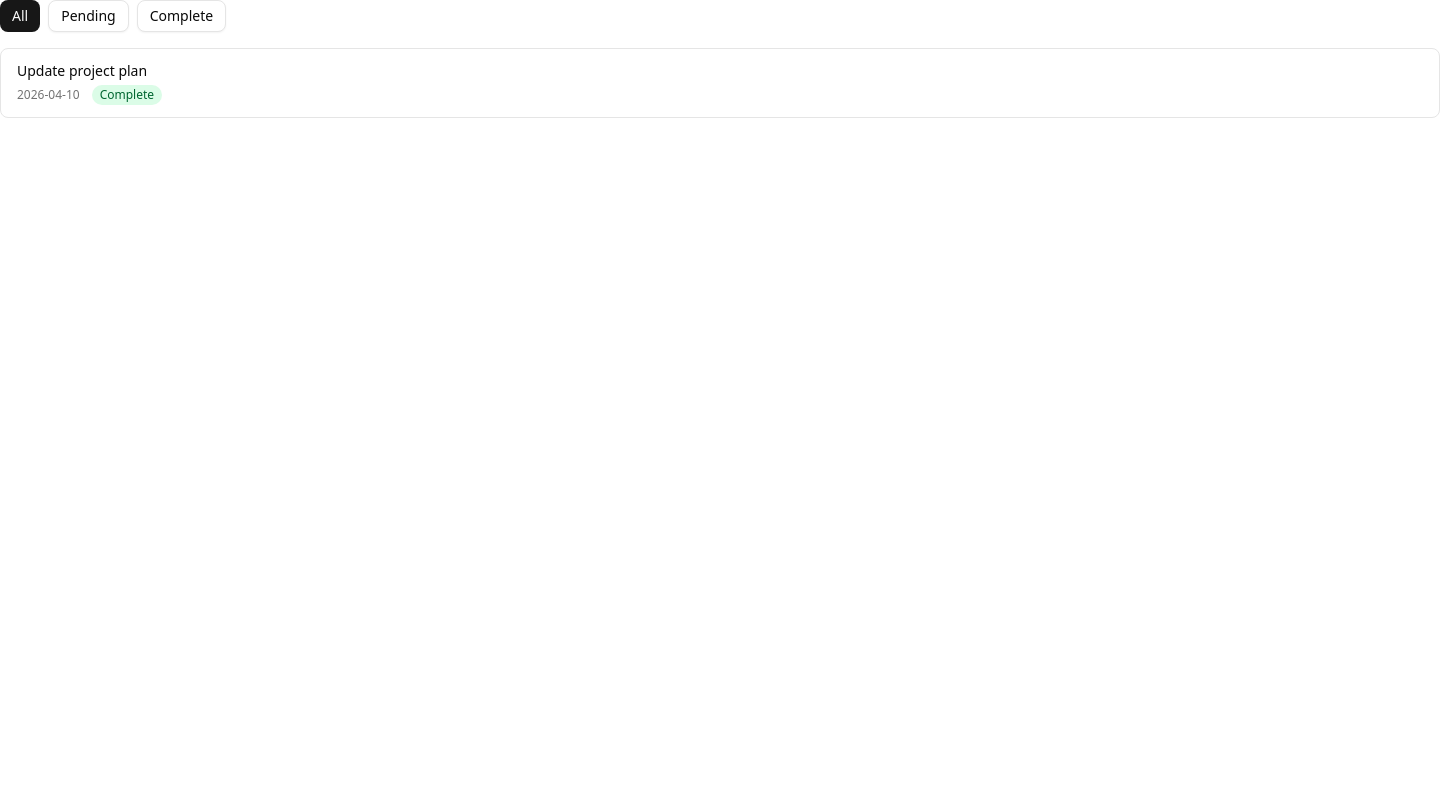
AC-2: Team-member does NOT see "Mark Complete" on an already-completed task › AC-2: "Mark Complete" button is NOT shown in the task detail modal for a completed task
Click the text "Update project plan": (82, 70) [17,61,147,80]
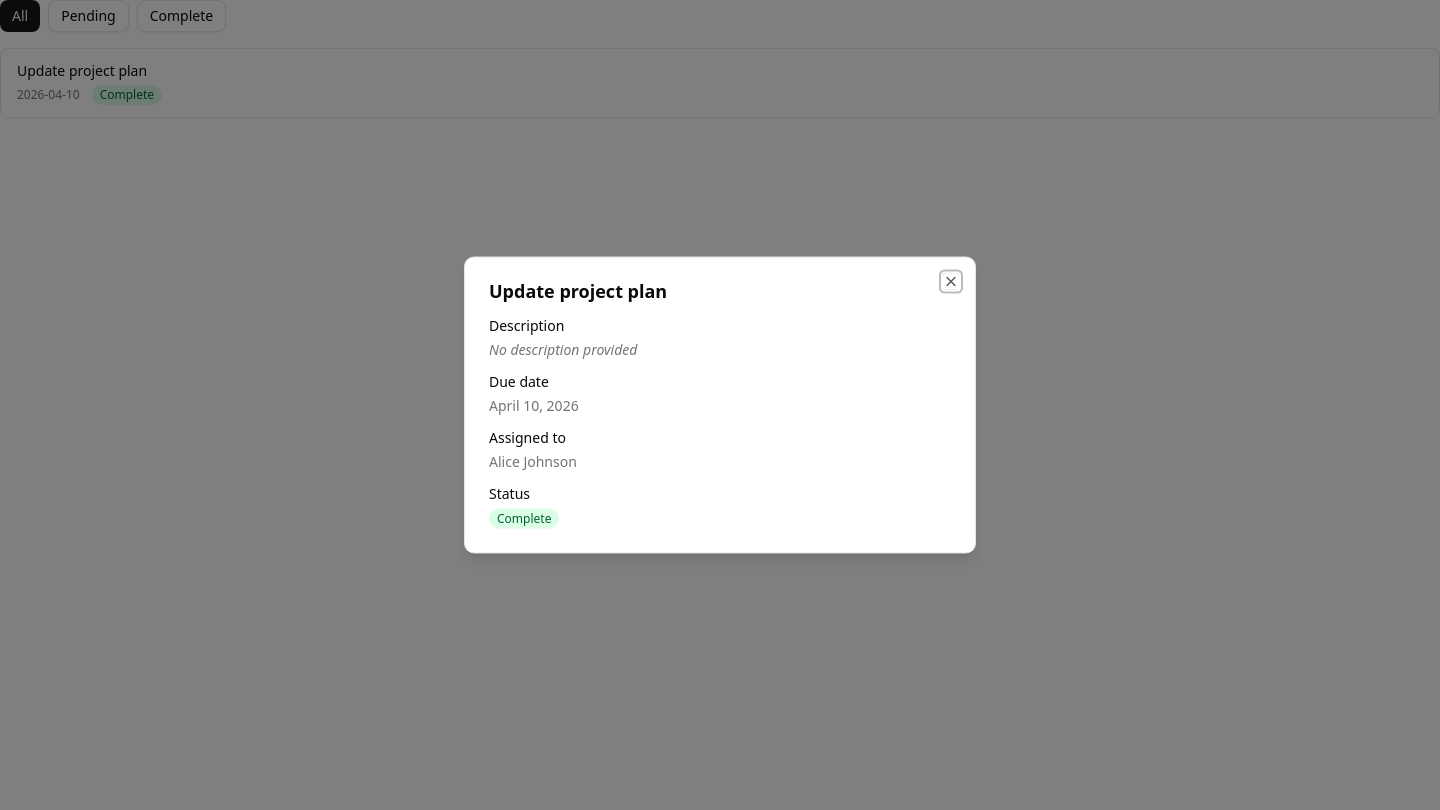
Now the dialog is shown, box [464,256,976,554]
